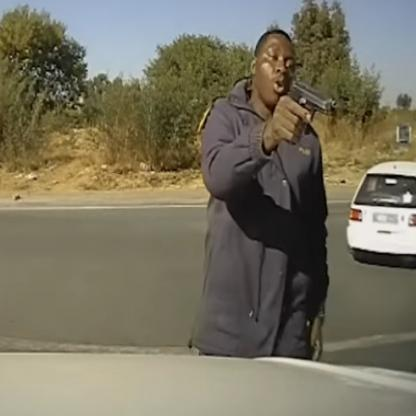criminal: (188, 28, 337, 362)
weapon: (287, 79, 338, 123)
